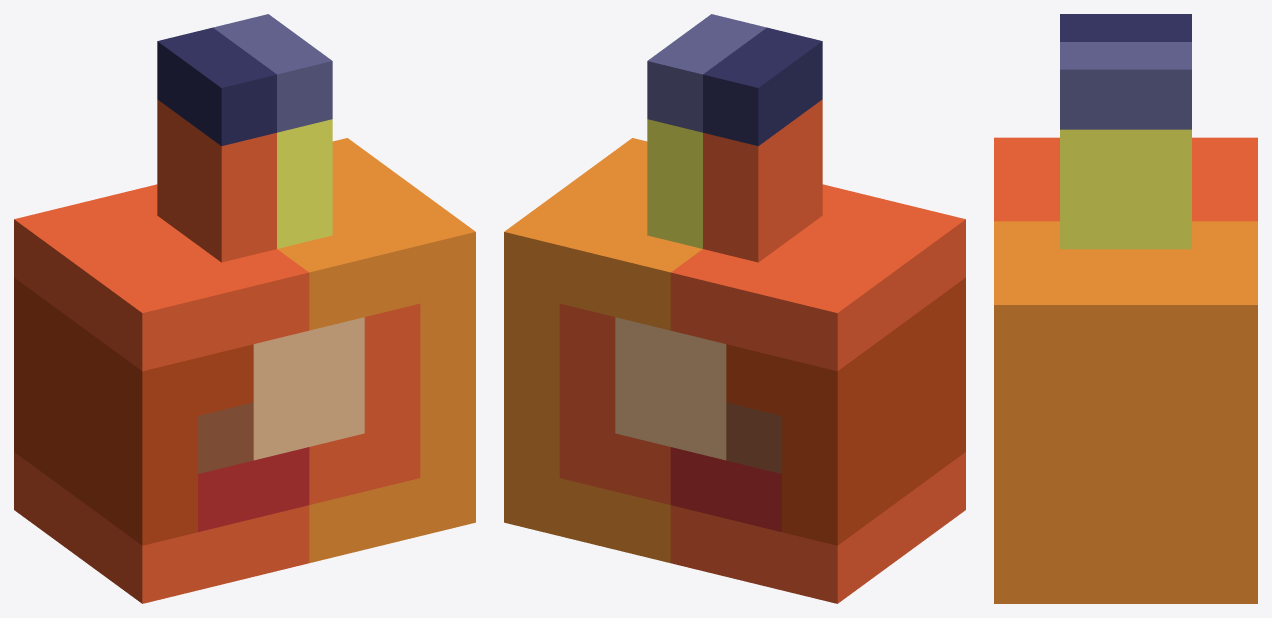
File: OrangeBottle.fbx
3 views of the same model, side by side, from view 1: azimuth 30°, elevation 25°; view 2: azimuth 150°, elevation 25°; view 3: azimuth 270°, elevation 25° (orthographic). The views are drawn at different scales.
Visible parts, largest first — view 1: orangebottle; view 2: orangebottle; view 3: orangebottle.
Part boxes in pixels (bbox=[...]): orangebottle: bbox=[14, 14, 475, 603]; orangebottle: bbox=[504, 14, 965, 603]; orangebottle: bbox=[994, 14, 1257, 603].
Bounding box in the file's own units: 60 × 80 × 40.
